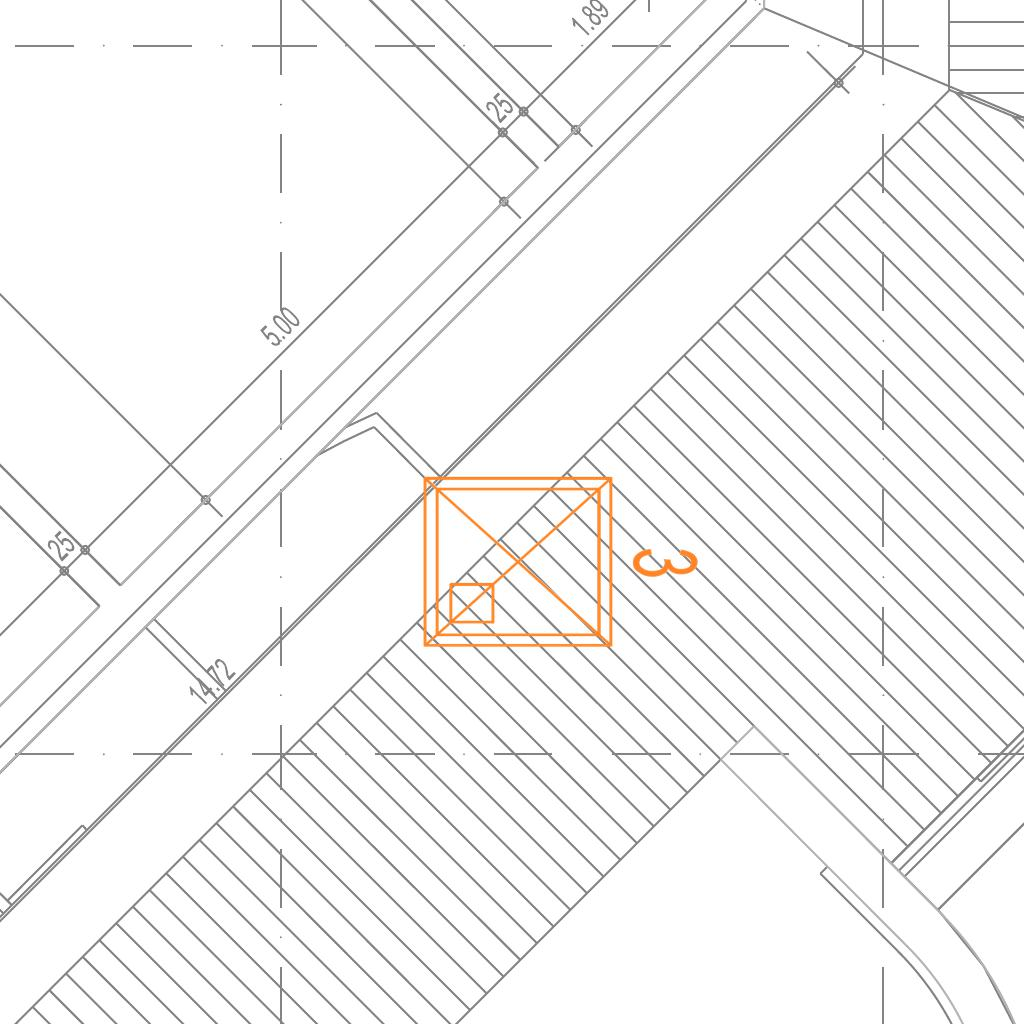Einbaudownlights_LED_Konferenzraeume: (409, 454, 709, 662)
